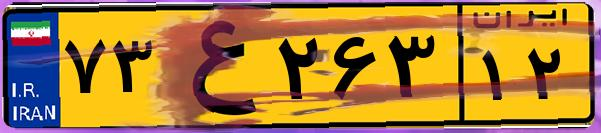1: (475, 38, 525, 113)
2: (270, 28, 330, 110), (525, 38, 570, 115)
3: (385, 28, 445, 110), (110, 28, 158, 98)
6: (330, 28, 385, 110)
7: (57, 26, 110, 100)
ع: (158, 12, 270, 120)
